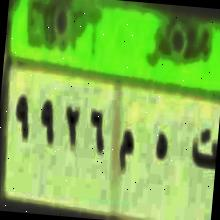2: (62, 96, 84, 158)
6: (84, 104, 110, 168)
9: (36, 95, 58, 149), (12, 89, 32, 148)
haa: (150, 126, 172, 172)
meem: (114, 123, 136, 179)
taa: (186, 120, 220, 177)
